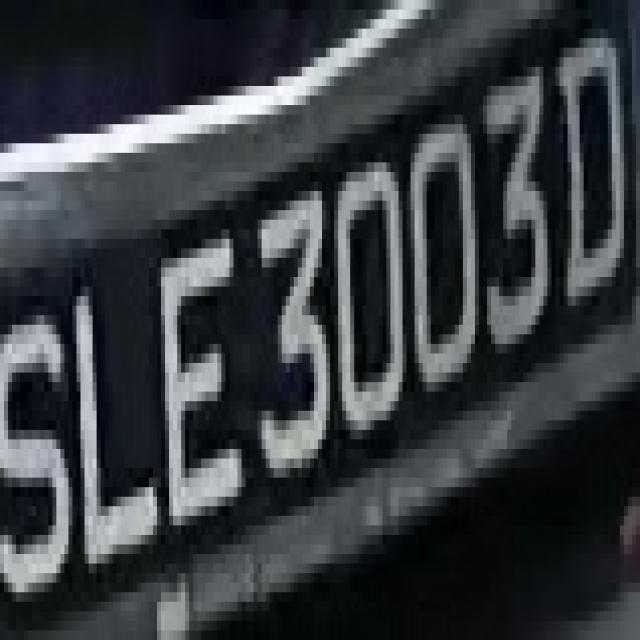0: (407, 105, 483, 439), (330, 182, 399, 478)
3: (238, 191, 330, 516), (471, 29, 547, 372)
D: (559, 29, 628, 315)
E: (149, 229, 254, 554)
L: (56, 267, 169, 602)
S: (0, 276, 68, 630)
